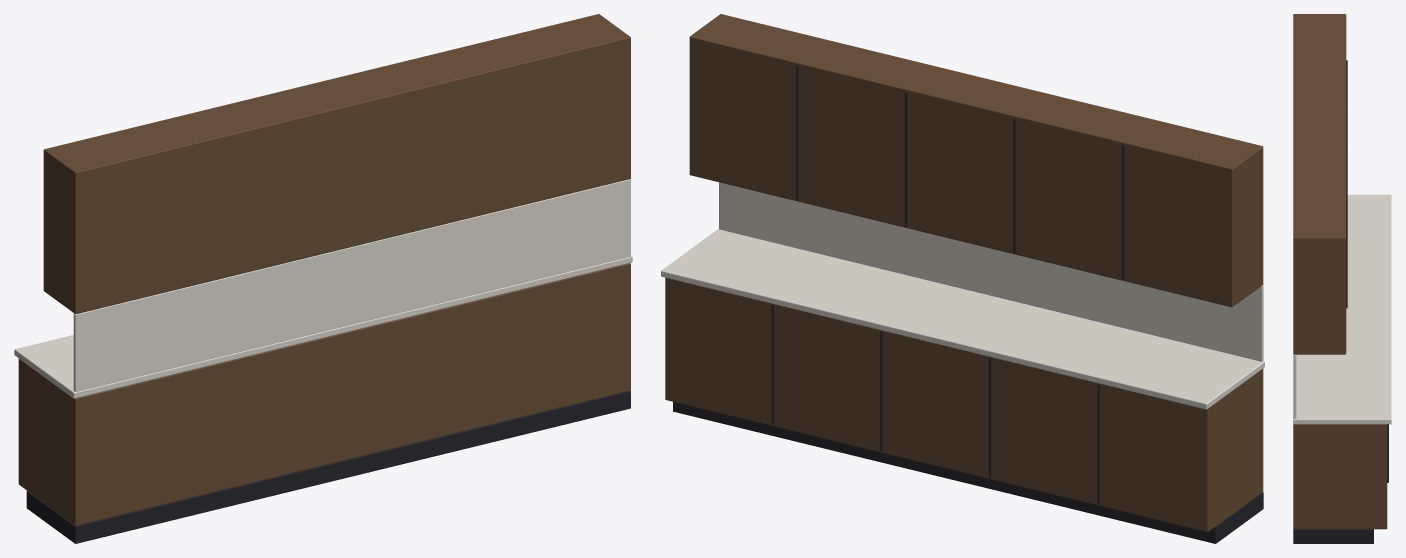
File: kitchen-run.glb
3 renders of one model, left to right at view 1: azimuth 30°, elevation 25°; view 2: azimuth 150°, elevation 25°; view 3: azimuth 270°, elevation 25°, orthographic. The views are drawn at different scales.
Parts seen in each view (by area): view 1: run_wall, run_base, run_splash, run_plinth, run_worktop; view 2: run_wall, run_base, run_worktop, run_splash, run_plinth; view 3: run_wall, run_worktop, run_base, run_plinth, run_splash, run_gap_w4.
Part boxes in pixels (x1=…): run_wall: x1=43, y1=14, x2=630, y2=314; run_base: x1=18, y1=263, x2=630, y2=525; run_splash: x1=73, y1=179, x2=630, y2=391; run_plinth: x1=26, y1=390, x2=630, y2=543; run_worktop: x1=14, y1=256, x2=632, y2=398; run_wall: x1=689, y1=14, x2=1263, y2=307; run_base: x1=665, y1=277, x2=1263, y2=531; run_worktop: x1=661, y1=229, x2=1264, y2=409; run_splash: x1=719, y1=182, x2=1263, y2=361; run_plinth: x1=673, y1=402, x2=1263, y2=543; run_wall: x1=1293, y1=14, x2=1346, y2=354; run_worktop: x1=1293, y1=194, x2=1391, y2=424; run_base: x1=1293, y1=424, x2=1387, y2=529; run_plinth: x1=1293, y1=529, x2=1373, y2=543; run_splash: x1=1293, y1=354, x2=1296, y2=418; run_gap_w4: x1=1346, y1=194, x2=1347, y2=308.
Bounding box in the file's own units: 3.62 × 2.3 × 0.6701.
